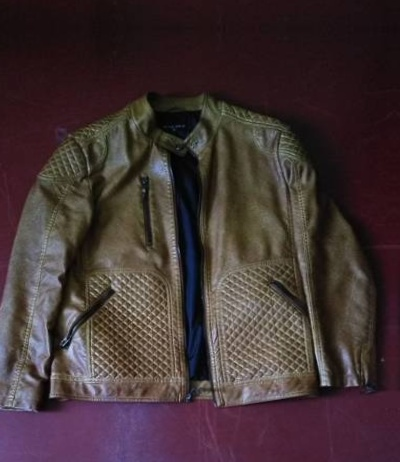Blazer: (0, 73, 387, 424)
